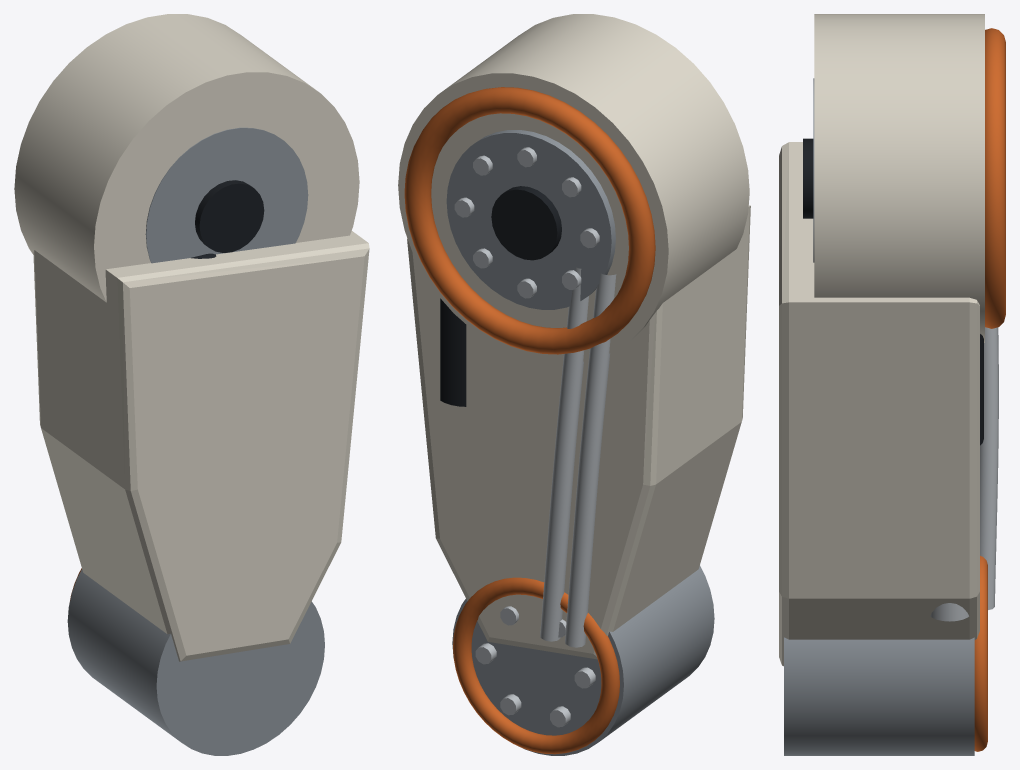
Rendered from left_thigh_link.glb.
3 renders of one model, left to right at view 1: azimuth 30°, elevation 25°; view 2: azimuth 150°, elevation 25°; view 3: azimuth 270°, elevation 25°, orthographic. The views are drawn at different scales.
Visible parts, largest first — view 1: left_thigh_link; view 2: left_thigh_link; view 3: left_thigh_link.
Part boxes in pixels (left/top/right/bottom): left_thigh_link: left=14, top=14, right=369, bottom=755; left_thigh_link: left=398, top=14, right=750, bottom=755; left_thigh_link: left=779, top=14, right=1005, bottom=755.
Bounding box in the file's own units: 0.164 × 0.394 × 0.113.
